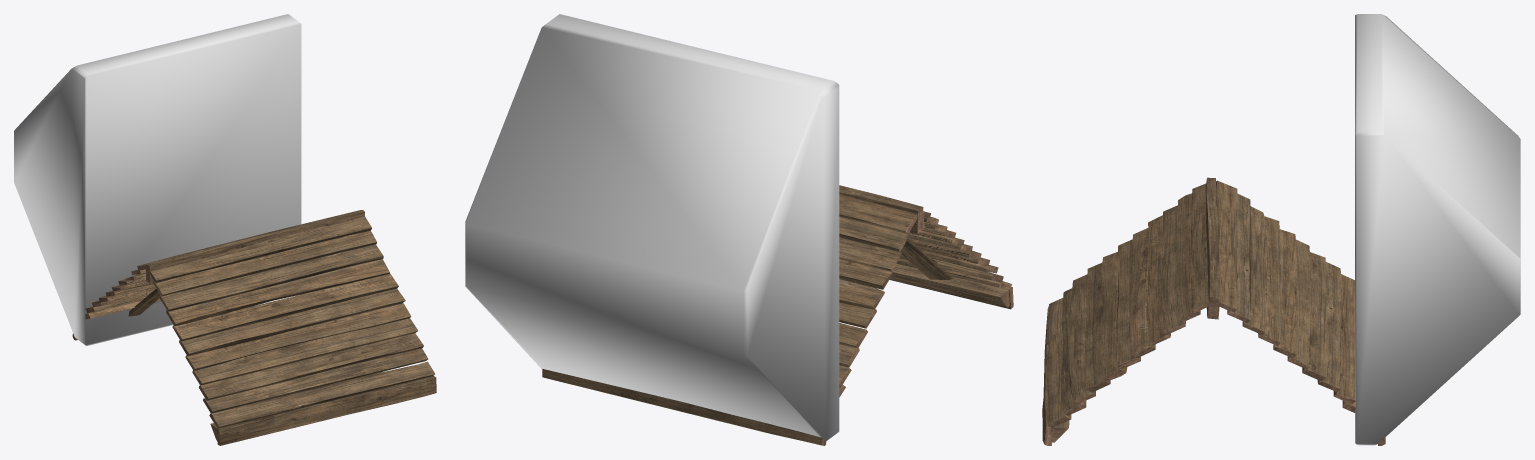
File: SM_Roof_Small_A.fbx
3 views of the same model, side by side, from view 1: azimuth 30°, elevation 25°; view 2: azimuth 150°, elevation 25°; view 3: azimuth 270°, elevation 25° (orthographic). The views are drawn at different scales.
Visible parts, largest first — view 1: SM_Roof_Small_A_ConvexHulls, SM_Roof_Small_A; view 2: SM_Roof_Small_A_ConvexHulls, SM_Roof_Small_A; view 3: SM_Roof_Small_A_ConvexHulls, SM_Roof_Small_A.
Boxes of the visible parts, x1=… form: SM_Roof_Small_A_ConvexHulls: x1=14, y1=14, x2=301, y2=345; SM_Roof_Small_A: x1=72, y1=210, x2=436, y2=445; SM_Roof_Small_A_ConvexHulls: x1=465, y1=14, x2=839, y2=441; SM_Roof_Small_A: x1=542, y1=185, x2=1013, y2=445; SM_Roof_Small_A_ConvexHulls: x1=1355, y1=14, x2=1520, y2=445; SM_Roof_Small_A: x1=1042, y1=177, x2=1385, y2=445.
Bounding box in the file's own units: 5.5 × 6.63 × 9.16.
